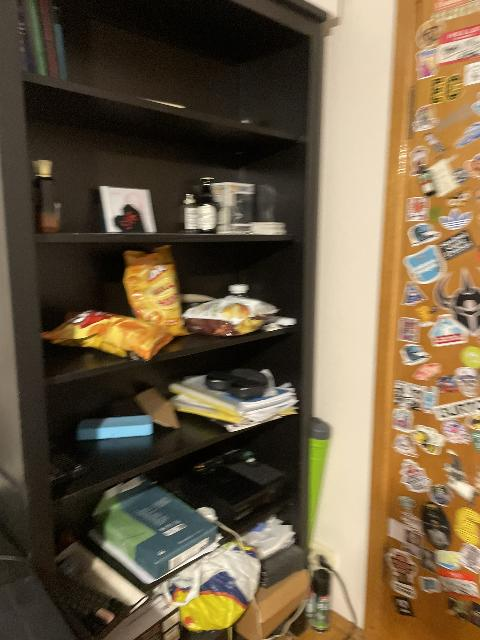Chio Cascaval 125g: (41, 310, 175, 360)
Chio Hula Hoops Cheese 70g: (120, 247, 192, 337)
Lays Beef Grilled Ribs 125g: (179, 283, 284, 336)
